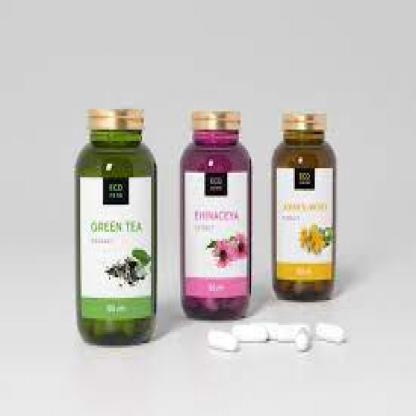jar: (73, 109, 157, 344), (179, 110, 251, 319), (271, 113, 336, 299)
